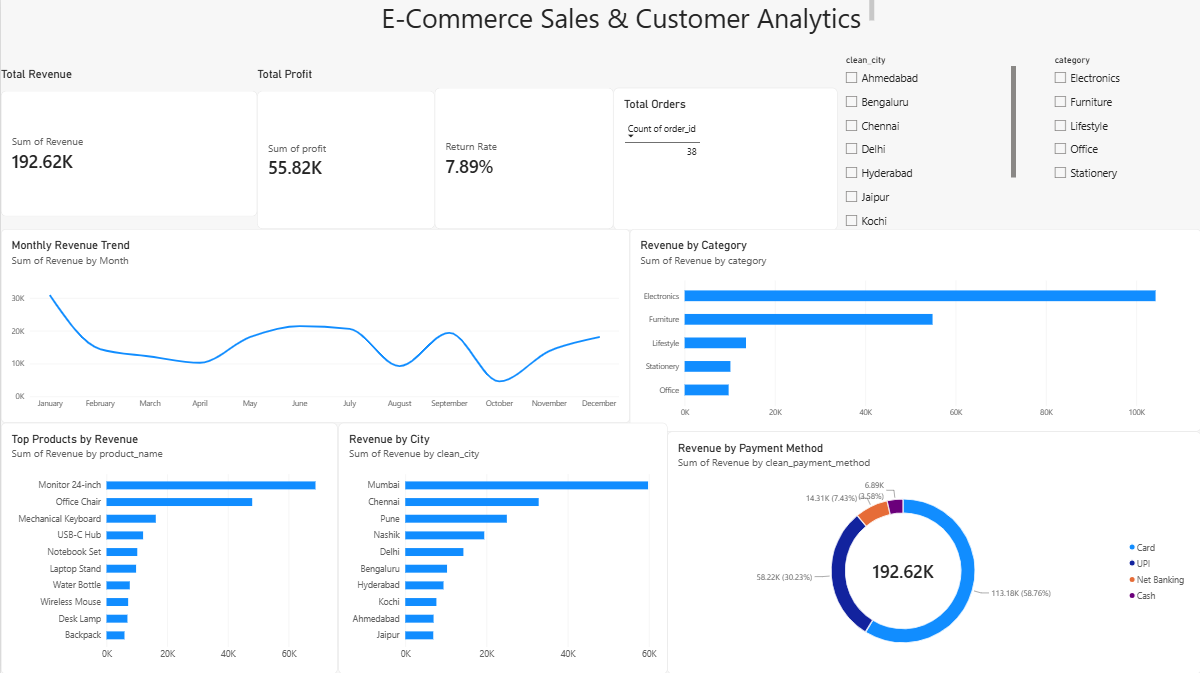

Layout of this report page (visuals, bound fields, positions):
{"tool":"powerbi","page":{"name":"Page 1","canvas":[1920,1080],"ordinal":0},"visuals":[{"type":"cardVisual","title":"Total Revenue","fields":{"Data":["Sum(Orders.Revenue)"]},"box":[0,458,280,280],"z":0},{"type":"cardVisual","title":"Total Profit","fields":{"Data":["Sum(Orders.profit)"]},"box":[488,458,280,280],"z":1000},{"type":"tableEx","title":"Total Orders","fields":{"Values":["Orders.order_id"]},"box":[488,800,280,242],"z":2000},{"type":"cardVisual","fields":{"Data":["Customers.Return Rate"]},"box":[0,800,280,242],"z":3000},{"type":"lineChart","title":"Monthly Revenue Trend","fields":{"Category":["Orders.order_date.Variation.Date Hierarchy.Month"],"Y":["Sum(Orders.Revenue)"]},"box":[1640,72,280,280],"z":4000},{"type":"clusteredBarChart","title":"Revenue by Category","fields":{"Category":["Products.category"],"Y":["Sum(Orders.Revenue)"]},"box":[1080,352,280,280],"z":5000},{"type":"clusteredBarChart","title":"Top Products by Revenue","fields":{"Category":["Products.product_name"],"Y":["Sum(Orders.Revenue)"]},"box":[1360,352,280,280],"z":6000},{"type":"donutChart","title":"Revenue by Payment Method","fields":{"Category":["Orders.clean_payment_method"],"Y":["Sum(Orders.Revenue)"]},"box":[1640,352,280,280],"z":7000},{"type":"slicer","fields":{"Values":["Customers.clean_city"]},"box":[20,84,280,280],"z":7001},{"type":"slicer","fields":{"Values":["Products.category"]},"box":[470,84,170,280],"z":7002},{"type":"textbox","box":[0,0,835,62.5],"z":7003},{"type":"clusteredBarChart","title":"Revenue by City","fields":{"Category":["Customers.clean_city"],"Y":["Sum(Orders.Revenue)"]},"box":[1088,616,832,394],"z":7004}]}

Visuals, with their boxes in screenshot pixels (x1, y1, x2, y2), scaled from the page's 1920x1080 canvas onto the 1200x673 screenshot:
"Total Revenue" cardVisual: (0, 285, 175, 460)
"Total Profit" cardVisual: (305, 285, 480, 460)
"Total Orders" tableEx: (305, 499, 480, 649)
cardVisual - Customers.Return Rate: (0, 499, 175, 649)
"Monthly Revenue Trend" lineChart: (1025, 45, 1199, 219)
"Revenue by Category" clusteredBarChart: (675, 219, 850, 394)
"Top Products by Revenue" clusteredBarChart: (850, 219, 1025, 394)
"Revenue by Payment Method" donutChart: (1025, 219, 1199, 394)
slicer - Customers.clean_city: (12, 52, 188, 227)
slicer - Products.category: (294, 52, 400, 227)
textbox: (0, 0, 522, 39)
"Revenue by City" clusteredBarChart: (680, 384, 1199, 629)
